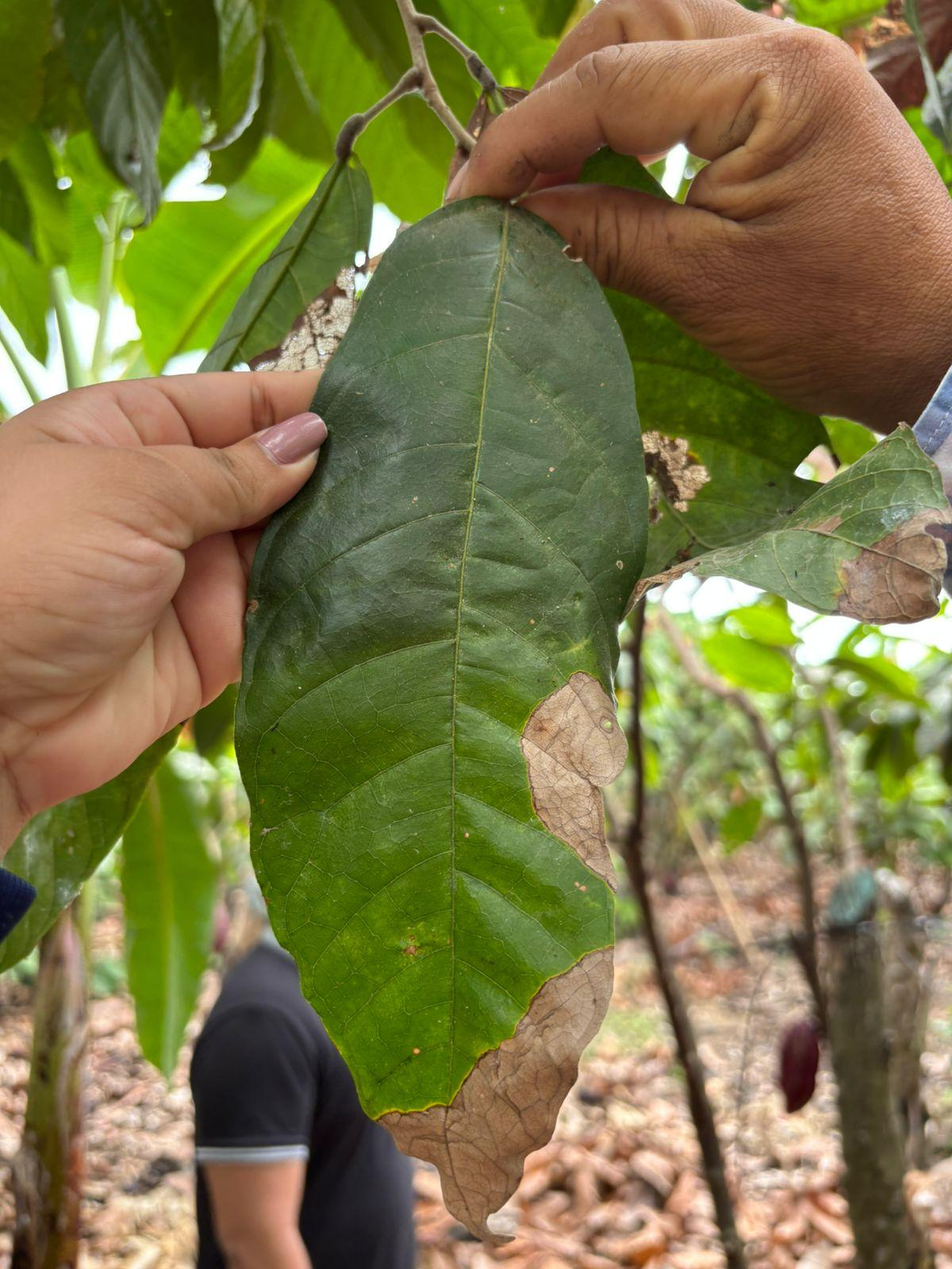Potasio: (236, 199, 647, 1236), (683, 428, 951, 623)
